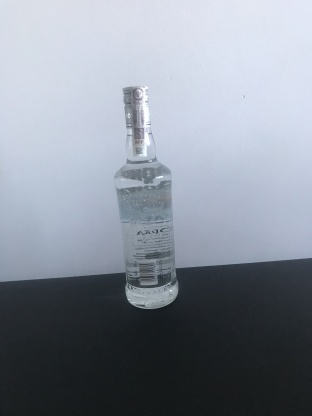nakretka: (120, 83, 153, 130)
